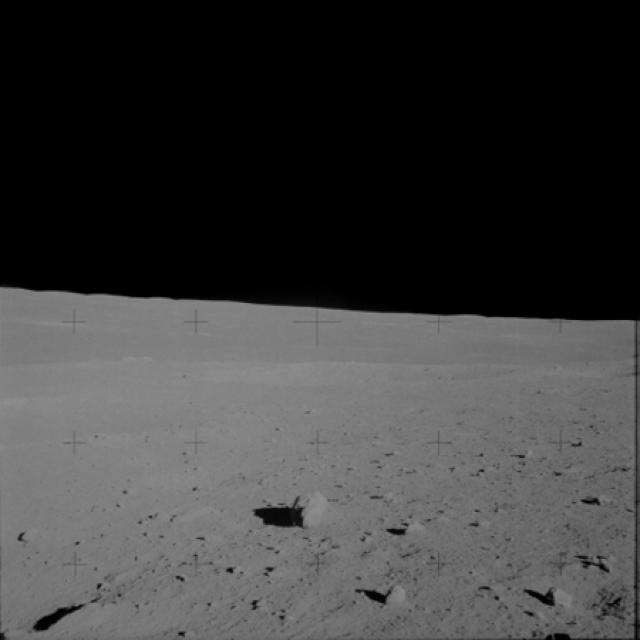rock: (31, 590, 133, 640), (277, 487, 337, 527), (569, 549, 619, 577), (529, 584, 576, 608), (378, 574, 410, 607), (12, 524, 46, 549), (389, 516, 426, 536), (582, 491, 612, 511)
